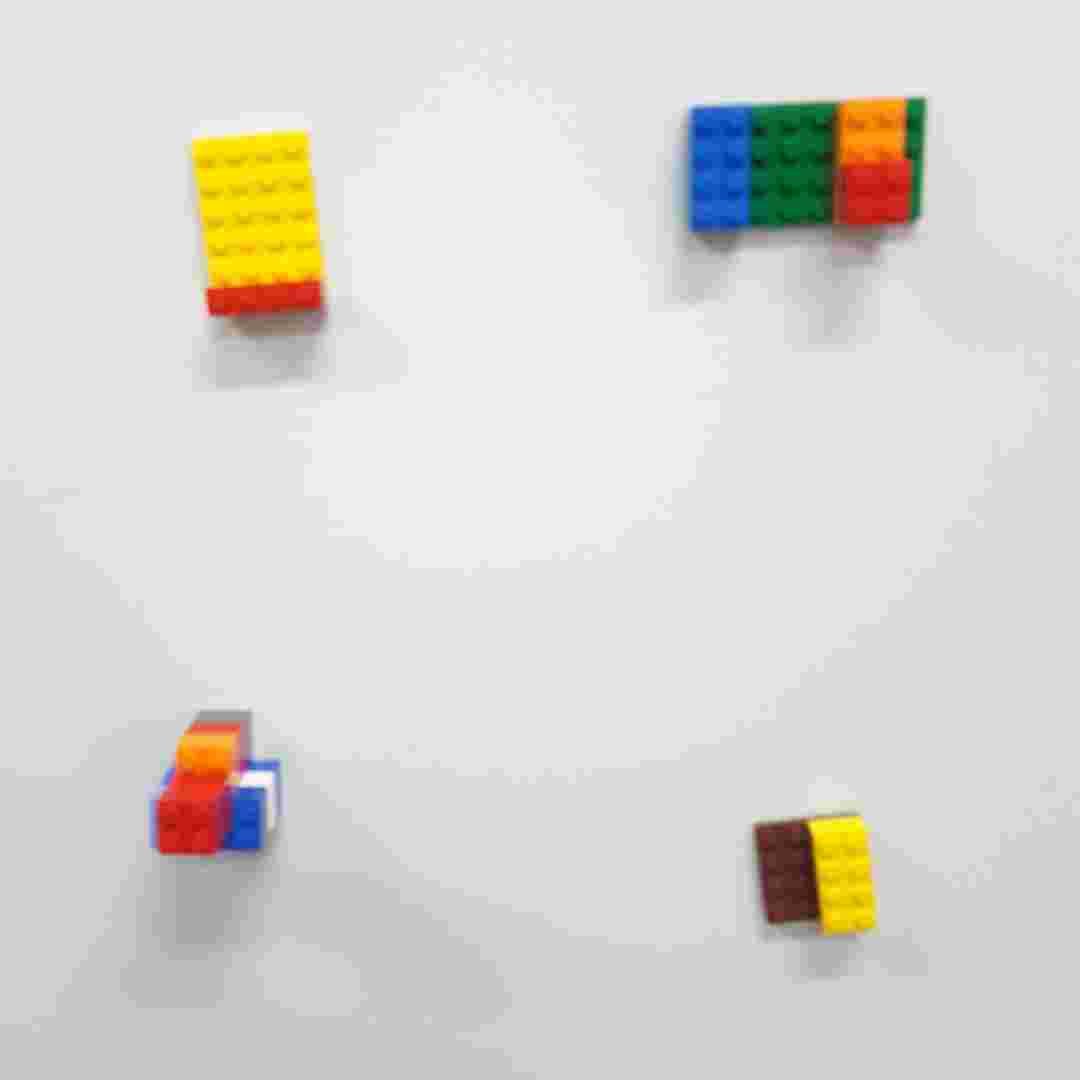LEGO: (683, 97, 930, 231), (186, 127, 331, 323), (146, 708, 291, 860), (749, 806, 887, 939)
